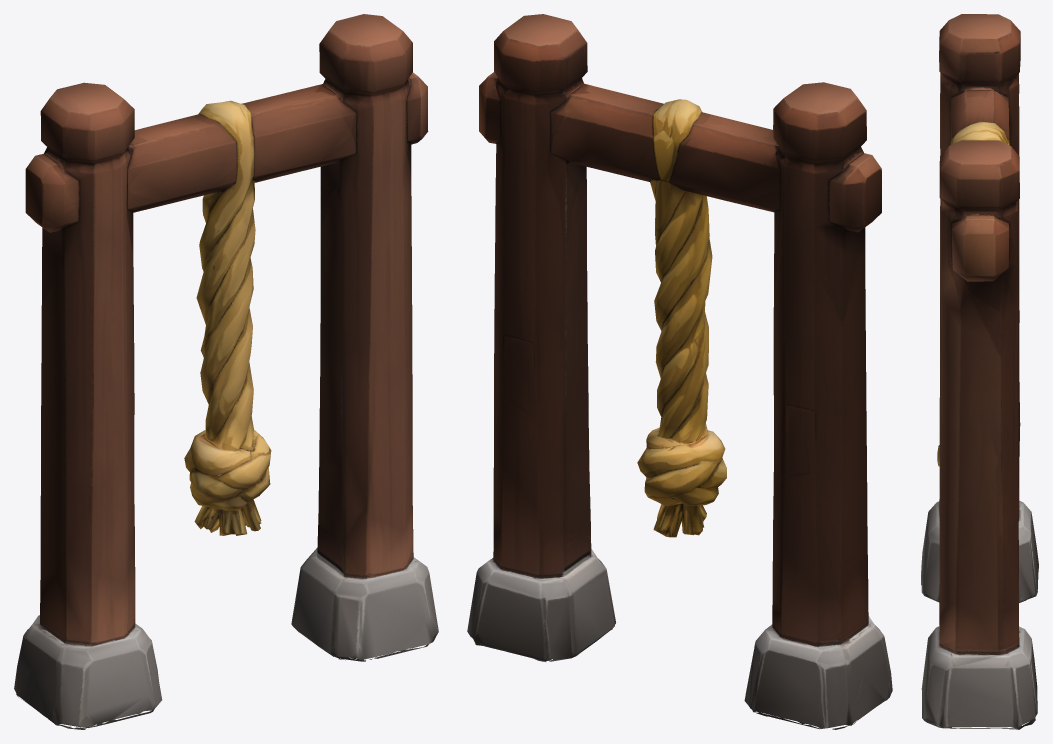
Rendered from rope_swing.glb.
The picture shows the model from 3 angles, left to right: view 1: azimuth 30°, elevation 25°; view 2: azimuth 150°, elevation 25°; view 3: azimuth 270°, elevation 25°; orthographic projection. The views are drawn at different scales.
Parts seen in each view (by area): view 1: low; view 2: low; view 3: low.
Part boxes in pixels (bbox=[...]): low: bbox=[14, 14, 438, 729]; low: bbox=[467, 14, 892, 729]; low: bbox=[921, 14, 1038, 729].
Bounding box in the file's own units: 0.6721 × 1 × 0.1919.
1 material, 1 textured.
